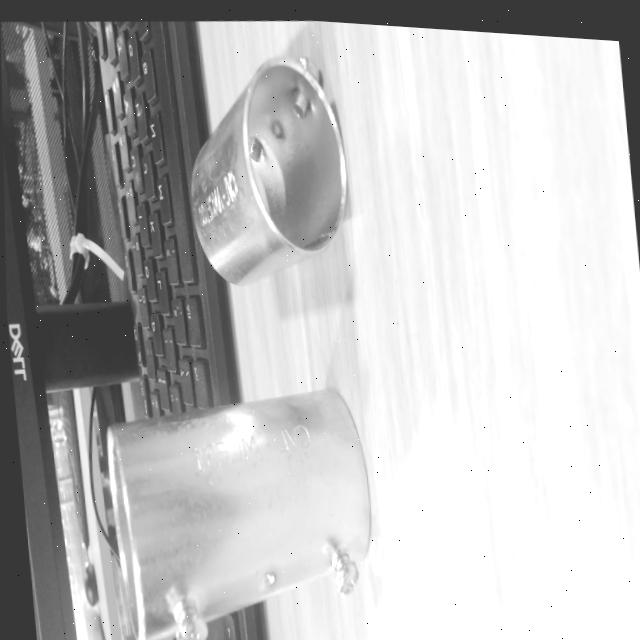Co_Lon: (99, 385, 386, 640)
Co_Nho: (144, 44, 382, 295)
